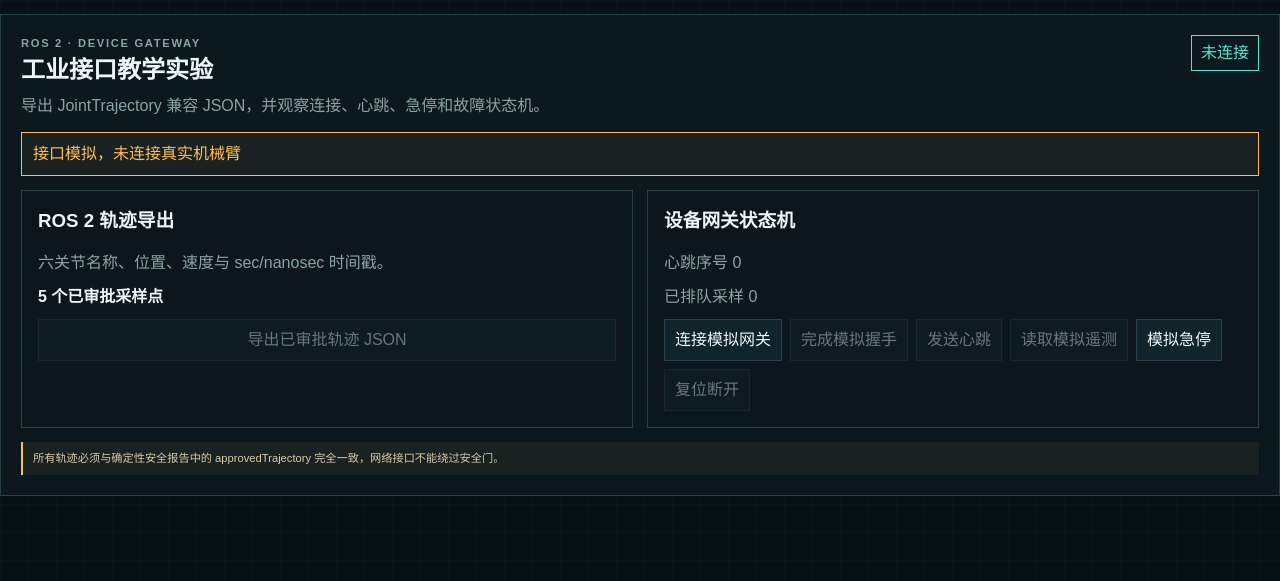
Test: industrial interface teaching panel › discloses simulation boundaries and demonstrates connection, heartbeat, export, and emergency stop
Expected: the text "接口模拟，未连接真实机械臂" is shown, 21,132 -> 1259,176
Expected: the message named "网关状态" reads "未连接", 1201,44 -> 1249,61
Click the button "连接模拟网关": (723, 340) 664,319 -> 782,361
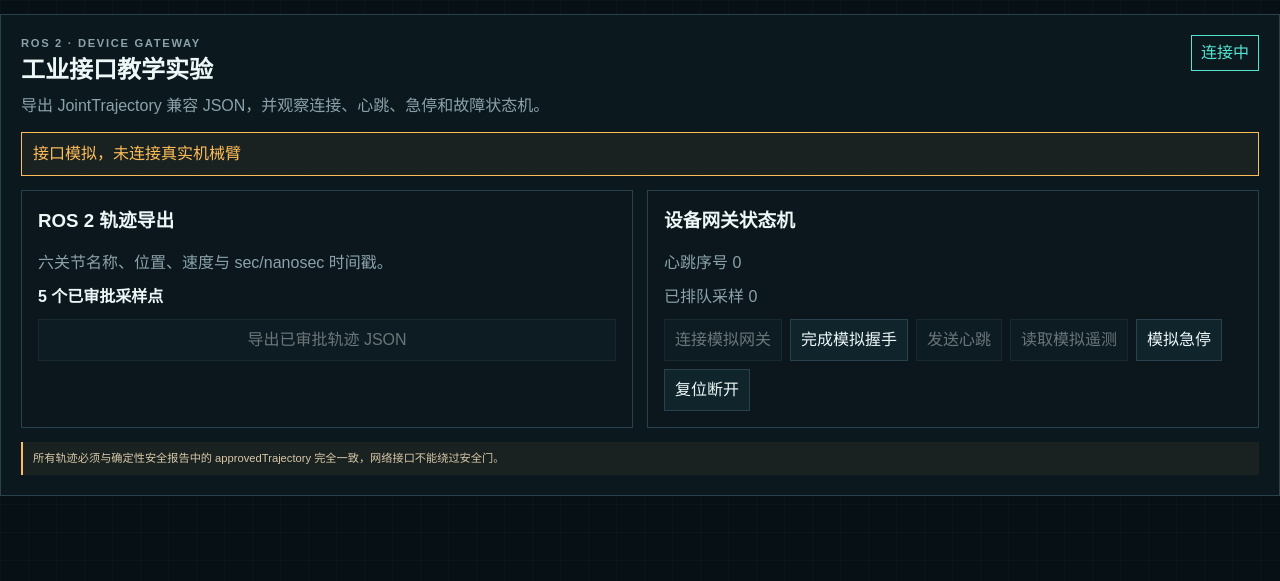
Expected: the message named "网关状态" reads "连接中", 1201,44 -> 1249,61
Click the button "完成模拟握手": (849, 340) 790,319 -> 908,361
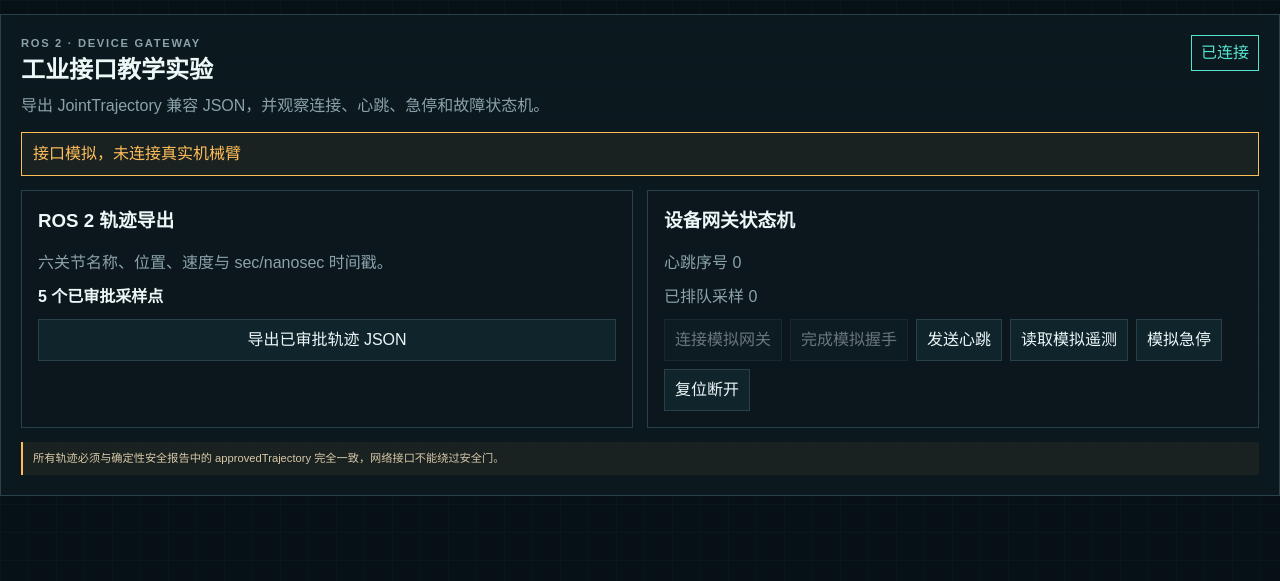
Click the button "发送心跳": (959, 340) 916,319 -> 1002,361
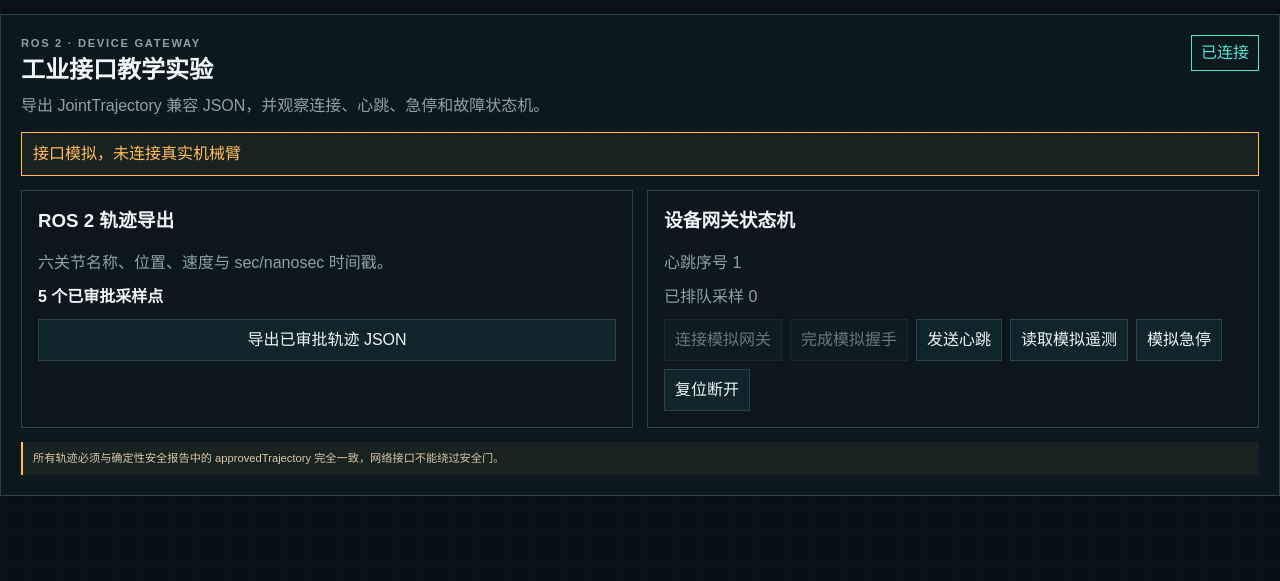
Expected: the text "心跳序号 1" is shown, 664,254 -> 741,271
Click the button "读取模拟遥测": (1069, 340) 1010,319 -> 1128,361
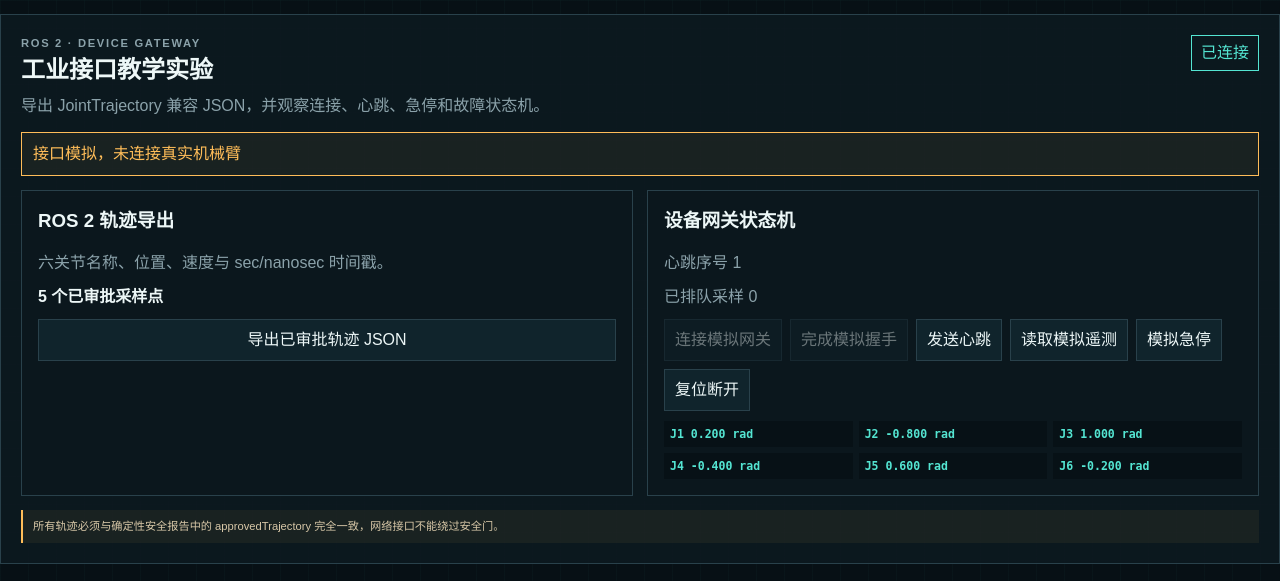
Expected: the button "导出已审批轨迹 JSON" is enabled, 38,319 -> 616,361
Expected: the element named "关节遥测" shows "J1 0.200 rad", 664,421 -> 1242,479
Click the button "模拟急停": (1179, 340) 1136,319 -> 1222,361
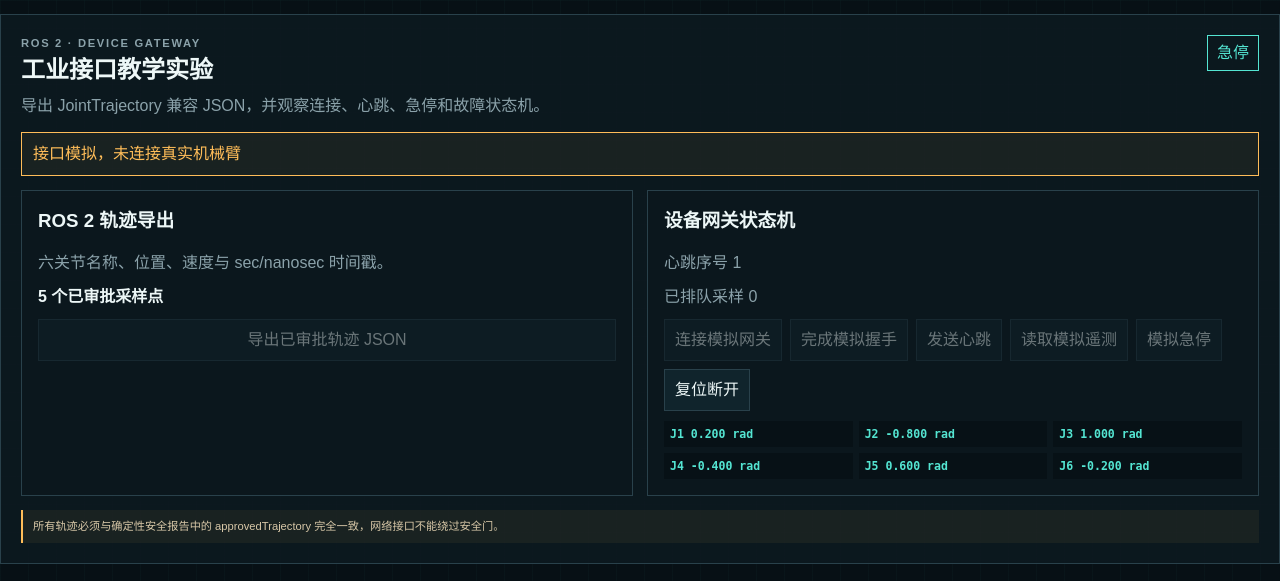
Expected: the message named "网关状态" reads "急停", 1217,44 -> 1249,61
Expected: the button "导出已审批轨迹 JSON" is disabled, 38,319 -> 616,361
